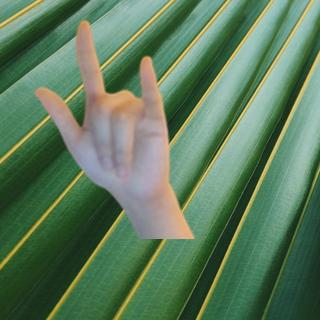ILY: (30, 16, 178, 204)
